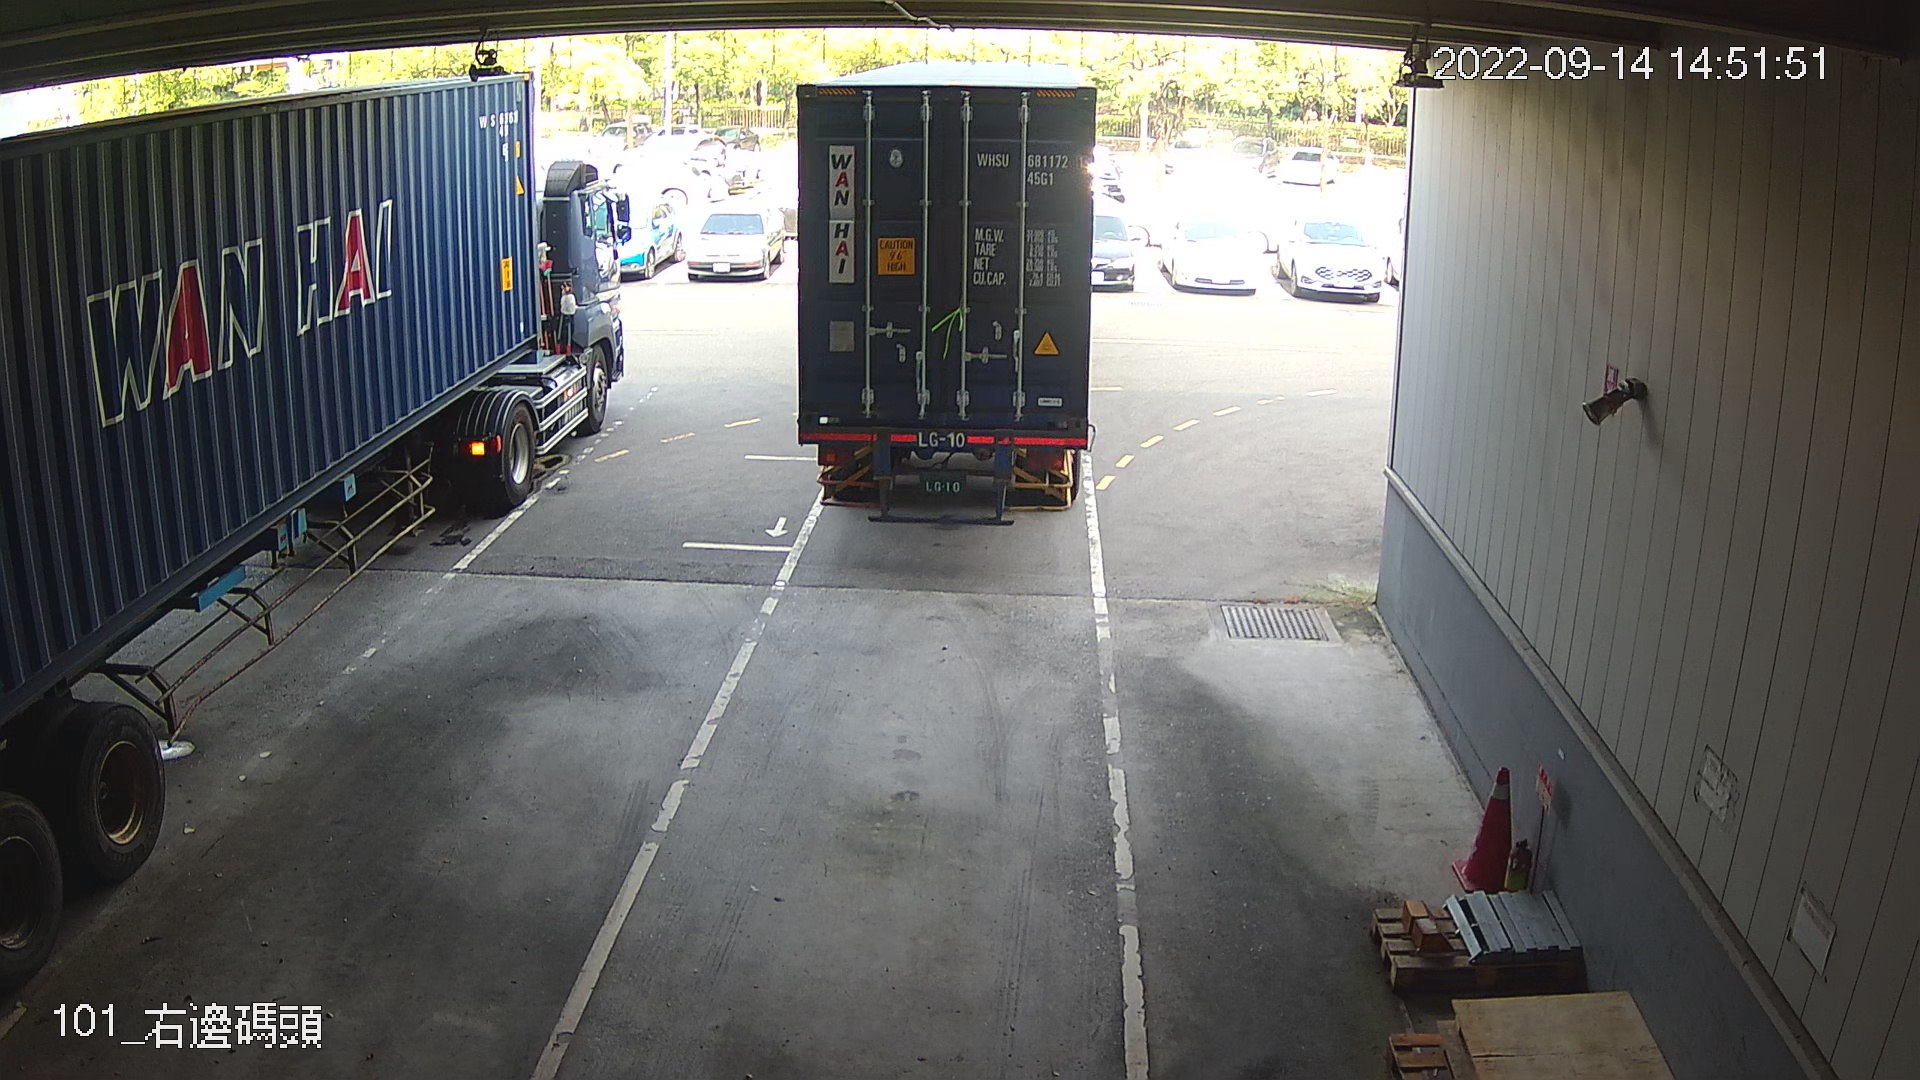container: (972, 146, 1088, 193)
